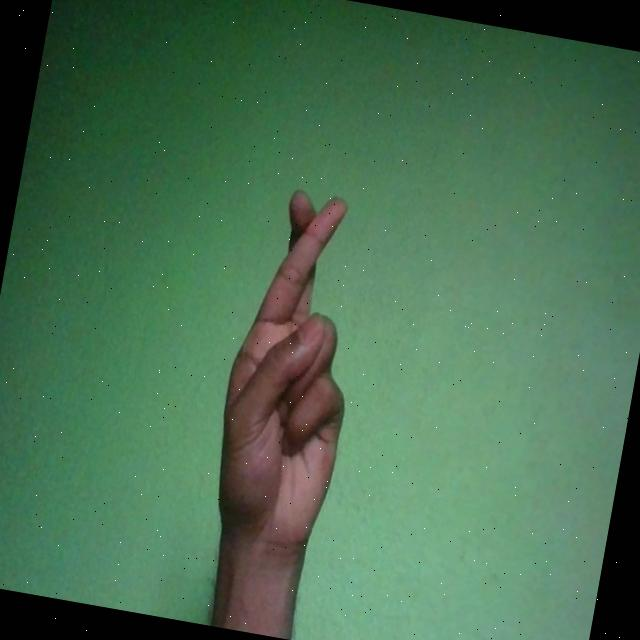Ok: (202, 184, 380, 560)
